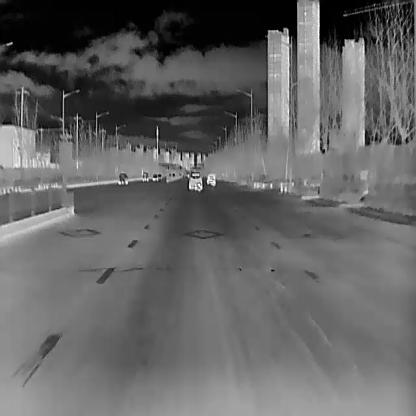car: (188, 170, 202, 189), (116, 172, 128, 184), (206, 170, 215, 184), (141, 171, 148, 181), (151, 172, 158, 180)
